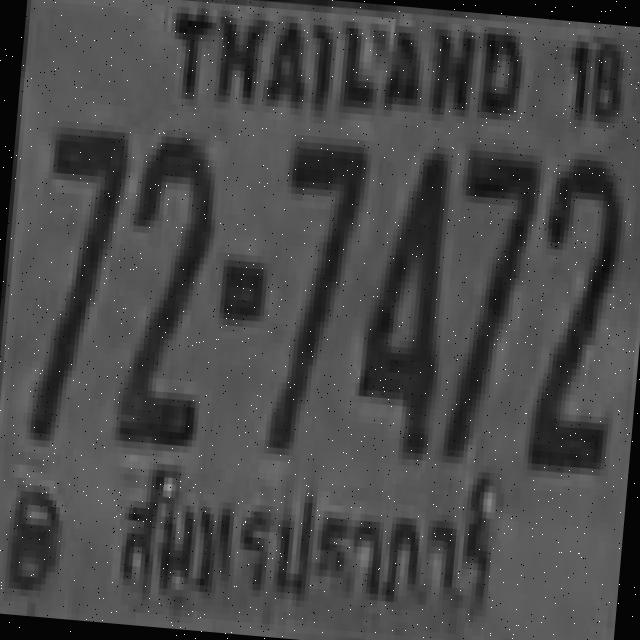2: (111, 127, 218, 440), (523, 150, 627, 469)
4: (350, 141, 453, 454)
7: (438, 142, 538, 462), (264, 134, 364, 453), (26, 120, 126, 438)
SamutPrakan: (88, 450, 516, 640)
